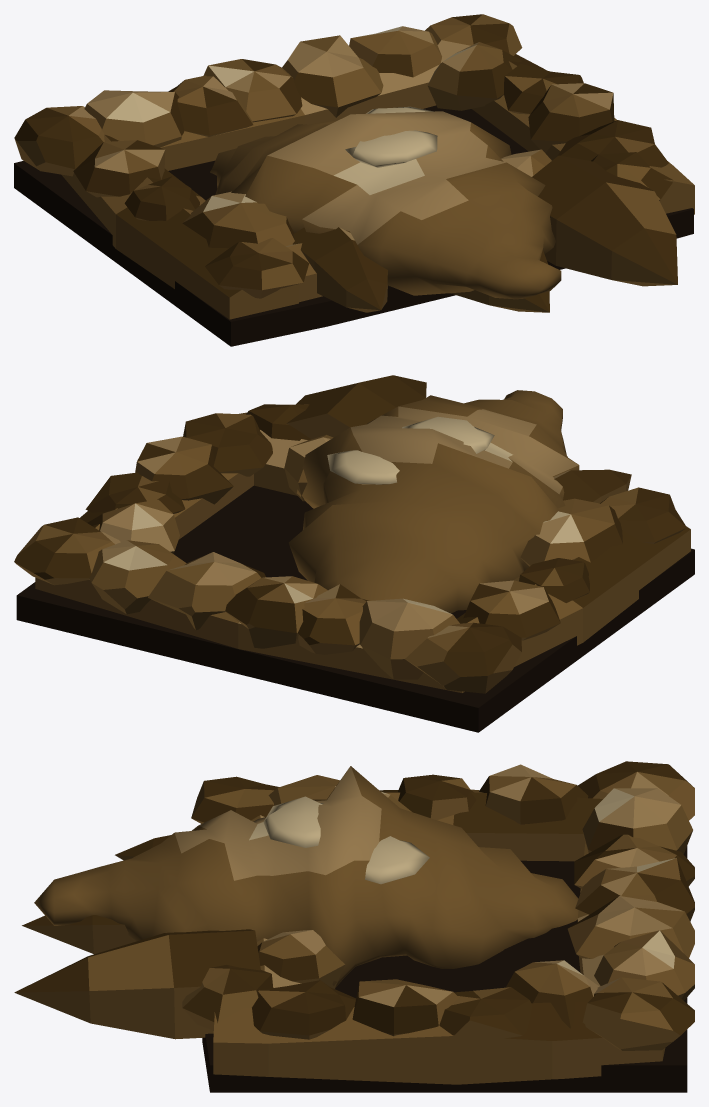
The model's file is newsh8-9-f4.glb.
The picture shows the model from 3 angles, top to bottom: view 1: azimuth 30°, elevation 25°; view 2: azimuth 150°, elevation 25°; view 3: azimuth 270°, elevation 25°; orthographic projection. The views are drawn at different scales.
Visible parts, largest first — view 1: newsh8-9-f4; view 2: newsh8-9-f4; view 3: newsh8-9-f4.
Boxes of the visible parts, x1=… form: newsh8-9-f4: x1=14, y1=14, x2=694, y2=346; newsh8-9-f4: x1=14, y1=375, x2=694, y2=732; newsh8-9-f4: x1=14, y1=761, x2=694, y2=1092.
Size of the model in its own units: 2 by 0.5995 by 2.26.
